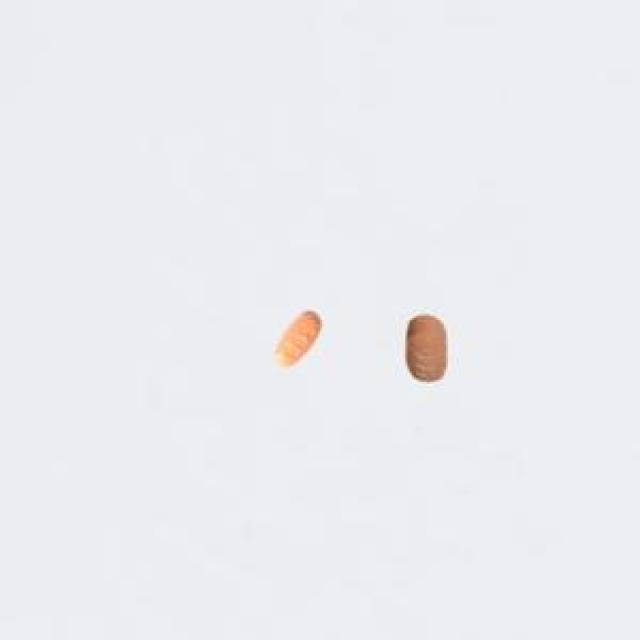Biogesic: (260, 300, 334, 380), (392, 304, 456, 396)
